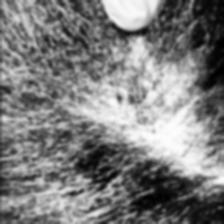Toxin: (94, 72, 200, 182)
